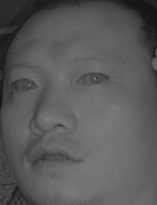eye: (76, 67, 114, 90), (10, 73, 43, 93)
mouth: (23, 137, 87, 173)
